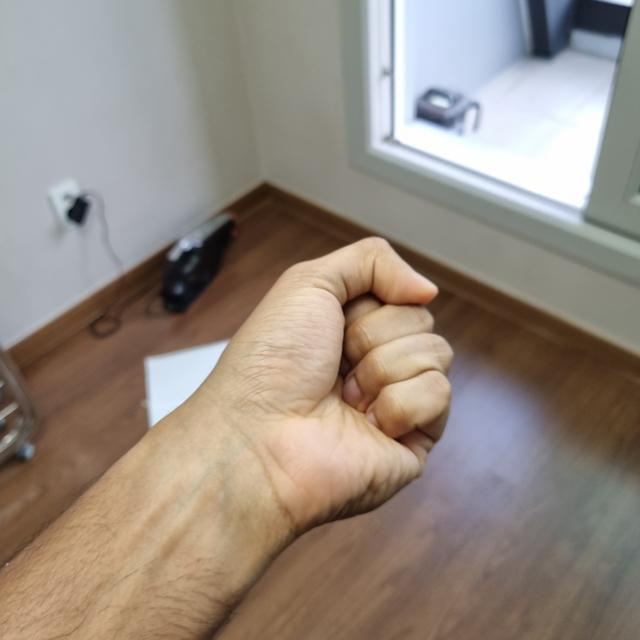Rock: (232, 264, 450, 526)
